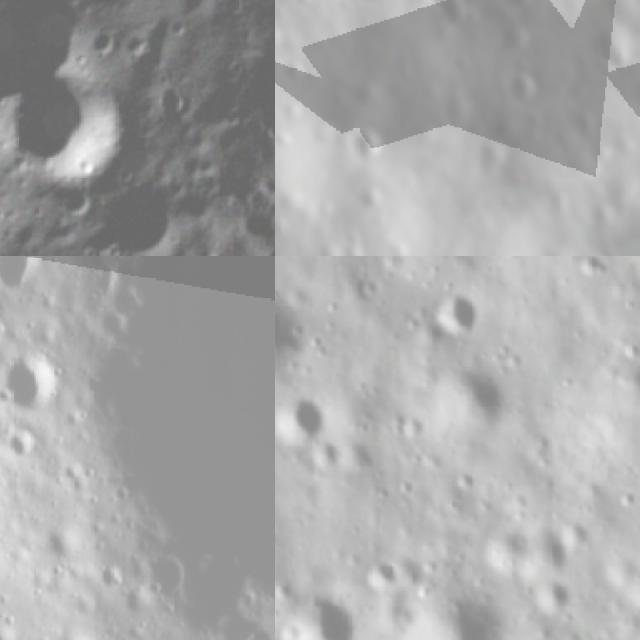crater: (0, 54, 152, 215), (78, 165, 197, 256), (543, 155, 640, 256), (275, 102, 322, 256), (432, 359, 510, 448), (570, 17, 640, 92), (275, 586, 361, 640), (417, 593, 511, 640), (0, 353, 62, 419), (328, 115, 396, 175), (520, 514, 584, 571), (478, 520, 538, 578), (275, 390, 330, 451), (425, 290, 485, 341), (495, 62, 548, 118), (141, 554, 197, 606), (405, 0, 481, 36), (275, 293, 310, 370), (467, 126, 516, 180), (486, 17, 538, 66), (529, 569, 575, 624), (0, 256, 57, 295), (361, 552, 403, 598), (0, 424, 40, 465), (572, 256, 614, 290), (276, 53, 313, 88), (118, 587, 150, 622), (99, 558, 128, 594), (614, 335, 640, 369), (490, 0, 536, 13), (275, 17, 285, 51), (0, 625, 21, 640)
